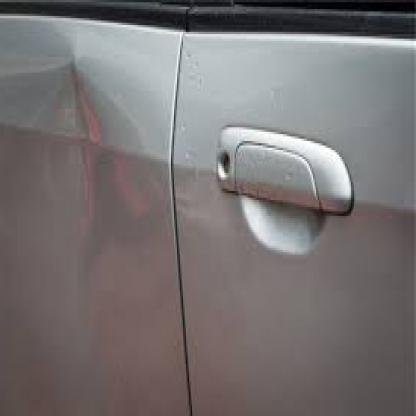dent: (1, 41, 168, 257)
